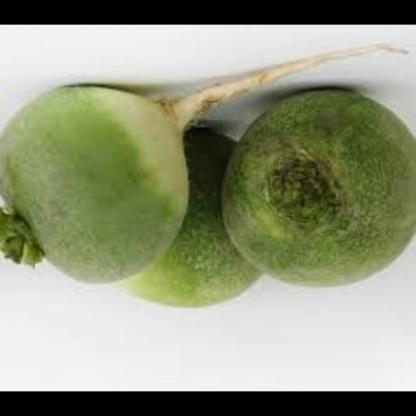redka: (217, 95, 415, 292), (0, 85, 186, 290), (116, 123, 272, 309)
